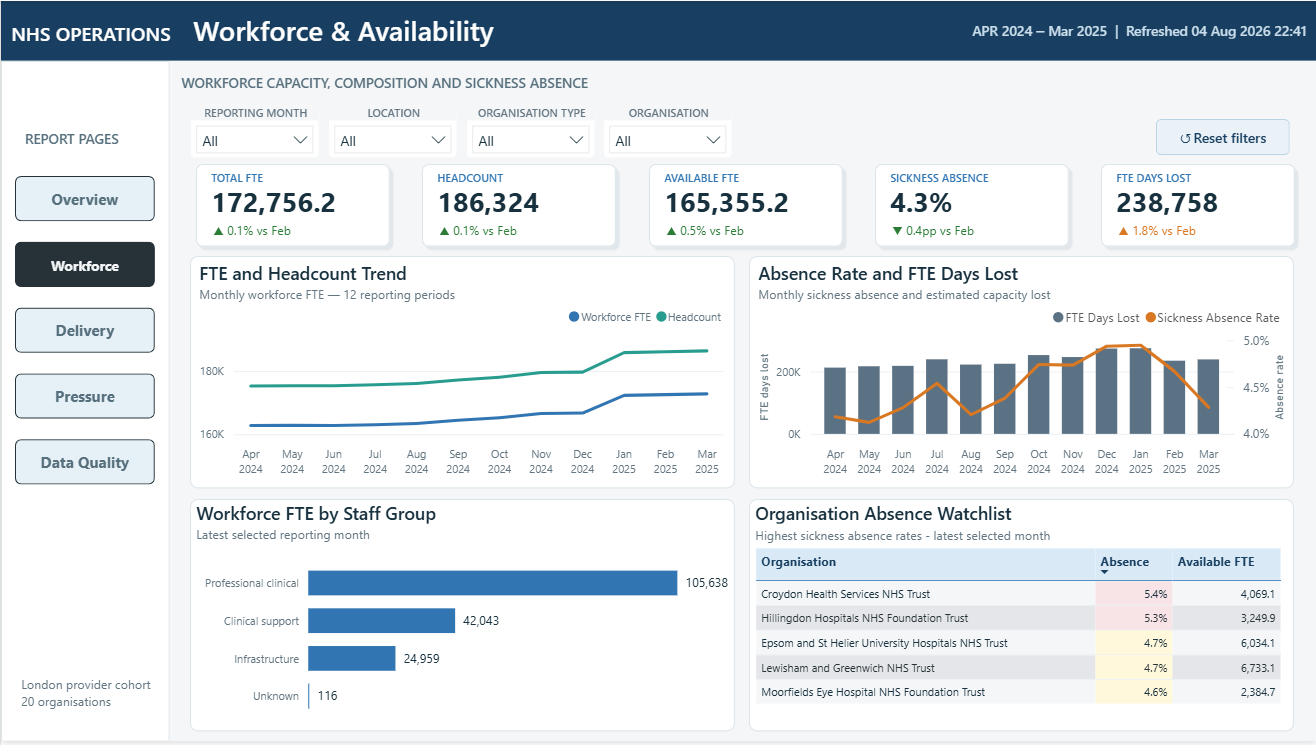

The dashboard page shown, as its layout file describes it:
{"tool":"powerbi","page":{"name":"Workforce","canvas":[1280,720],"ordinal":1},"visuals":[{"type":"shape","box":[0,58,164,662],"z":0},{"type":"shape","box":[184,153,200,92],"z":0,"group":"g6"},{"type":"shape","box":[404,153,200.2,92],"z":0,"group":"g4"},{"type":"shape","box":[624,153,200,92],"z":0,"group":"g3"},{"type":"shape","box":[1064,153,200.2,92],"z":0,"group":"g5"},{"type":"shape","box":[0,0,1280,58],"z":1000},{"type":"cardVisual","fields":{"Data":["_Measures.Headcount Card Value"]},"box":[419.2,177,169.7,31],"z":1000,"group":"g4"},{"type":"cardVisual","fields":{"Data":["_Measures.Available FTE Card Value"]},"box":[639.2,177,169.6,31],"z":1000,"group":"g3"},{"type":"cardVisual","fields":{"Data":["_Measures.FTE Days Lost Card Value"]},"box":[1079.2,177,169.7,31],"z":1000,"group":"g5"},{"type":"cardVisual","fields":{"Data":["_Measures.Total FTE Card Delta"]},"box":[199.2,212,161.4,20],"z":1000,"group":"g6"},{"type":"textbox","box":[5,5,550,47],"z":2000},{"type":"cardVisual","fields":{"Data":["_Measures.Total FTE Card Value"]},"box":[199.2,177,169.6,31],"z":2000,"group":"g6"},{"type":"cardVisual","fields":{"Data":["_Measures.Headcount Card Delta"]},"box":[419.2,212,161.5,20],"z":2000,"group":"g4"},{"type":"cardVisual","fields":{"Data":["_Measures.Available FTE Card Delta"]},"box":[639.2,212,161.4,20],"z":2000,"group":"g3"},{"type":"cardVisual","fields":{"Data":["_Measures.FTE Days Lost Card Delta"]},"box":[1079.2,212,161.5,20],"z":2000,"group":"g5"},{"type":"cardVisual","fields":{"Data":["_Measures.Latest Refresh Label"]},"box":[1085,10,190,35],"z":3000},{"type":"shape","box":[844,153,200,92],"z":3000,"group":"g1"},{"type":"textbox","box":[199.2,163,128.7,17],"z":3000,"group":"g6"},{"type":"textbox","box":[419.2,163,128.8,17],"z":3000,"group":"g4"},{"type":"textbox","box":[639.2,163,128.7,17],"z":3000,"group":"g3"},{"type":"textbox","box":[1079.2,163,128.8,17],"z":3000,"group":"g5"},{"type":"textbox","box":[940,11,148,35],"z":4000},{"type":"group","id":"g1","title":"Group 1","box":[844,153,200,92],"z":4000,"group":"g2"},{"type":"textbox","box":[15,120,130,30],"z":5000},{"type":"pageNavigator","box":[14,170,136,300],"z":6000},{"type":"textbox","box":[15,650,140,50],"z":7000},{"type":"textbox","box":[170.2,65.2,432.8,30.2],"z":8000},{"type":"slicer","title":"REPORTING MONTH","fields":{"Values":["DimDate.MonthLabel"]},"box":[184,100,126,53],"z":9000},{"type":"slicer","title":"LOCATION","fields":{"Values":["DataQualityRuleResults.ReportingMonth"]},"box":[318,100,126,53],"z":10000},{"type":"slicer","title":"ORGANISATION TYPE","fields":{"Values":["DataQualityRuleResults.RecordStatus"]},"box":[452,100,126,53],"z":11000},{"type":"slicer","title":"ORGANISATION","fields":{"Values":["dimOrganisation.CanonicalOrganisationName"]},"box":[586,100,126,53],"z":12000},{"type":"group","id":"g2","title":"Group 2","box":[184,153,860,92],"z":13000},{"type":"group","id":"g3","title":"Group 3","box":[624,153,200,92],"z":14000},{"type":"actionButton","box":[1123,115,130,35],"z":15000},{"type":"group","id":"g4","title":"Group 3","box":[404,153,200,91.9],"z":16000},{"type":"group","id":"g5","title":"Group 3","box":[1064,153,200,91.9],"z":17000},{"type":"lineChart","title":"FTE and Headcount Trend","fields":{"Category":["DimDate.MonthLabel"],"Y":["_Measures.Total FTE","_Measures.Headcount"]},"box":[184,248,530,226],"z":18000},{"type":"group","id":"g6","title":"Group 4","box":[184,153,200,92],"z":18001,"group":"g2"},{"type":"lineClusteredColumnComboChart","title":"Absence Rate and FTE Days Lost","fields":{"Category":["DimDate.MonthLabel"],"Y2":["_Measures.Sickness Absence Rate"],"Y":["_Measures.FTE Days Lost"]},"box":[728,248,530,226],"z":19000},{"type":"clusteredBarChart","title":"Workforce FTE by Staff Group","fields":{"Category":["dimStaffGroup.Staff Group Display"],"Y":["_Measures.Staff Mix FTE Latest"]},"box":[184,484,530,226],"z":20000},{"type":"tableEx","title":"Organisation Absence Watchlist","fields":{"Values":["dimOrganisation.CanonicalOrganisationName","_Measures.Sickness Absence Rate Latest","_Measures.Estimated Available FTE Latest"]},"box":[728,484,530,226],"z":21000},{"type":"textbox","box":[859.2,163,128.7,17],"z":23000,"group":"g1"},{"type":"cardVisual","fields":{"Data":["_Measures.Sickness Absence Card Value"]},"box":[859.2,177,169.6,31],"z":28000,"group":"g1"},{"type":"cardVisual","fields":{"Data":["_Measures.Sickness Absence Card Delta"]},"box":[859.2,212,161.4,20],"z":33000,"group":"g1"}]}

Visuals, with their boxes in screenshot pixels (x1, y1, x2, y2), scaled from the page's 1280x720 canvas onto the 1316x745 screenshot:
shape: 0:60:169:744
shape: 189:158:395:254
shape: 415:158:621:254
shape: 642:158:847:254
shape: 1094:158:1300:254
shape: 0:0:1315:60
cardVisual - _Measures.Headcount Card Value: 431:183:605:215
cardVisual - _Measures.Available FTE Card Value: 657:183:832:215
cardVisual - _Measures.FTE Days Lost Card Value: 1110:183:1284:215
cardVisual - _Measures.Total FTE Card Delta: 205:219:371:240
textbox: 5:5:571:54
cardVisual - _Measures.Total FTE Card Value: 205:183:379:215
cardVisual - _Measures.Headcount Card Delta: 431:219:597:240
cardVisual - _Measures.Available FTE Card Delta: 657:219:823:240
cardVisual - _Measures.FTE Days Lost Card Delta: 1110:219:1276:240
cardVisual - _Measures.Latest Refresh Label: 1116:10:1311:47
shape: 868:158:1073:254
textbox: 205:169:337:186
textbox: 431:169:563:186
textbox: 657:169:789:186
textbox: 1110:169:1242:186
textbox: 966:11:1119:48
"Group 1" group: 868:158:1073:254
textbox: 15:124:149:155
pageNavigator: 14:176:154:486
textbox: 15:673:159:724
textbox: 175:67:620:99
"REPORTING MONTH" slicer: 189:103:319:158
"LOCATION" slicer: 327:103:456:158
"ORGANISATION TYPE" slicer: 465:103:594:158
"ORGANISATION" slicer: 602:103:732:158
"Group 2" group: 189:158:1073:254
"Group 3" group: 642:158:847:254
actionButton: 1155:119:1288:155
"Group 3" group: 415:158:621:253
"Group 3" group: 1094:158:1300:253
"FTE and Headcount Trend" lineChart: 189:257:734:490
"Group 4" group: 189:158:395:254
"Absence Rate and FTE Days Lost" lineClusteredColumnComboChart: 748:257:1293:490
"Workforce FTE by Staff Group" clusteredBarChart: 189:501:734:735
"Organisation Absence Watchlist" tableEx: 748:501:1293:735
textbox: 883:169:1016:186
cardVisual - _Measures.Sickness Absence Card Value: 883:183:1058:215
cardVisual - _Measures.Sickness Absence Card Delta: 883:219:1049:240
